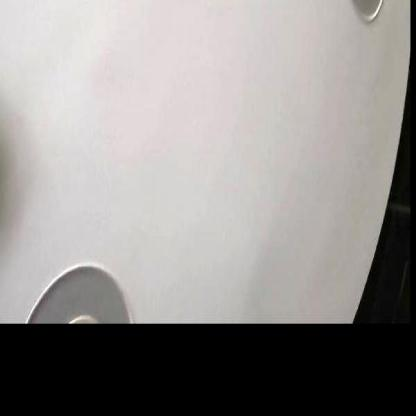light_off: (16, 226, 141, 322), (330, 0, 399, 28)
